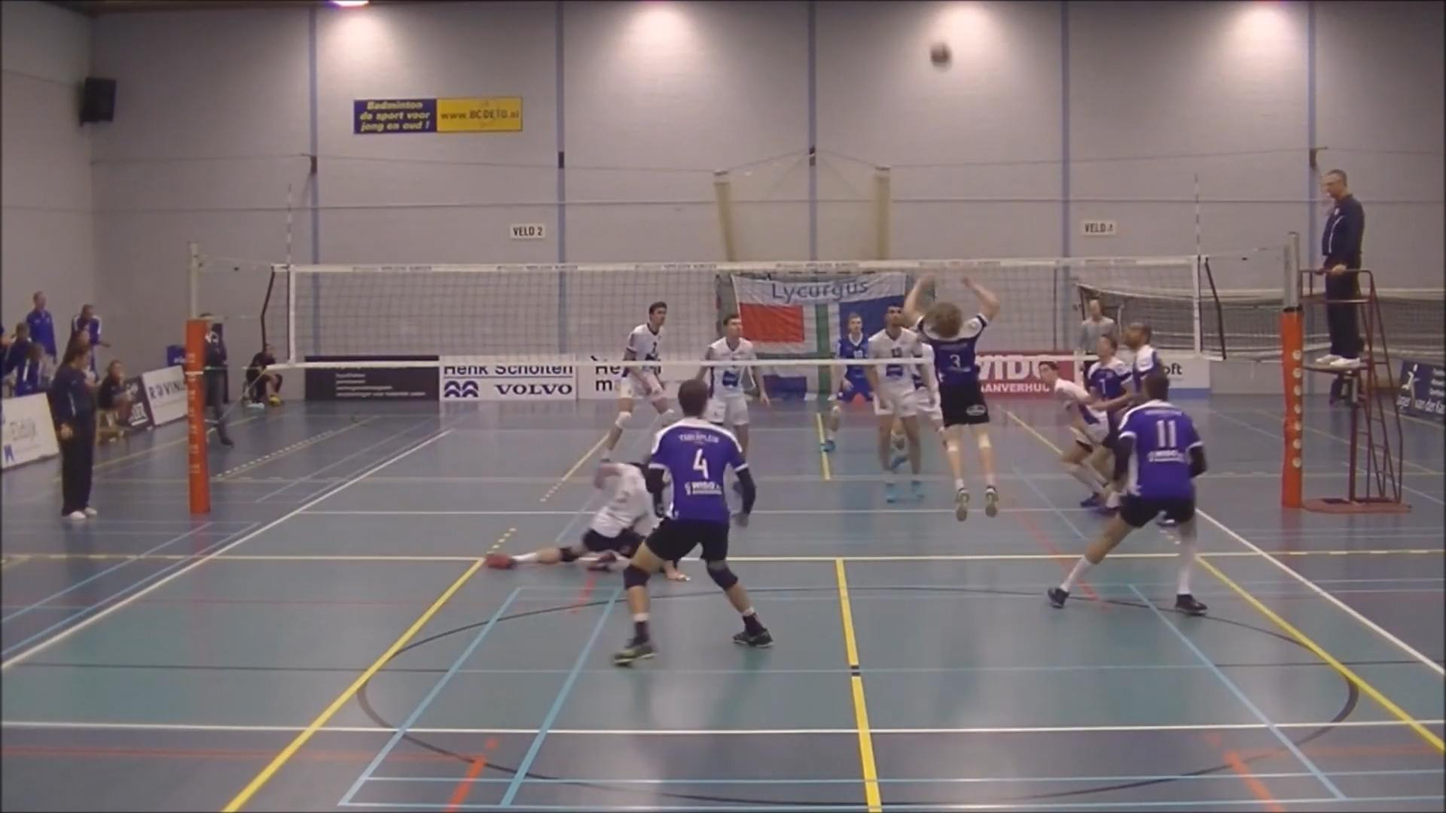attacco: (899, 257, 1014, 517)
